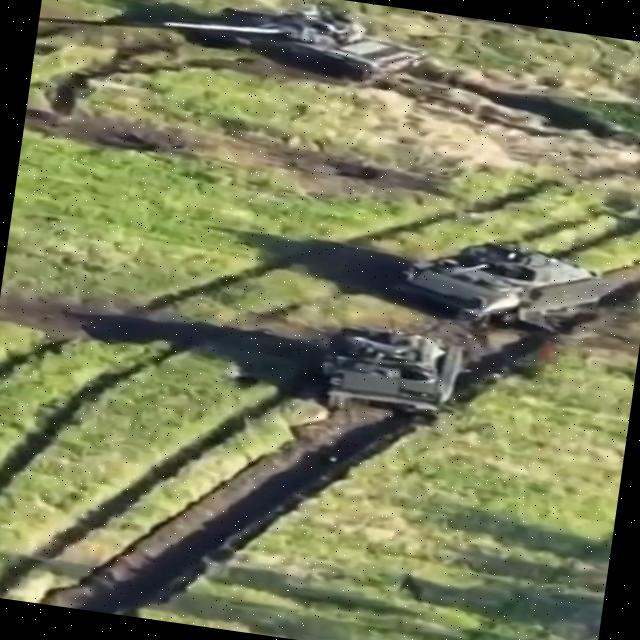AIFV: (389, 227, 624, 340), (308, 319, 472, 430)
MBT: (153, 1, 447, 94)
